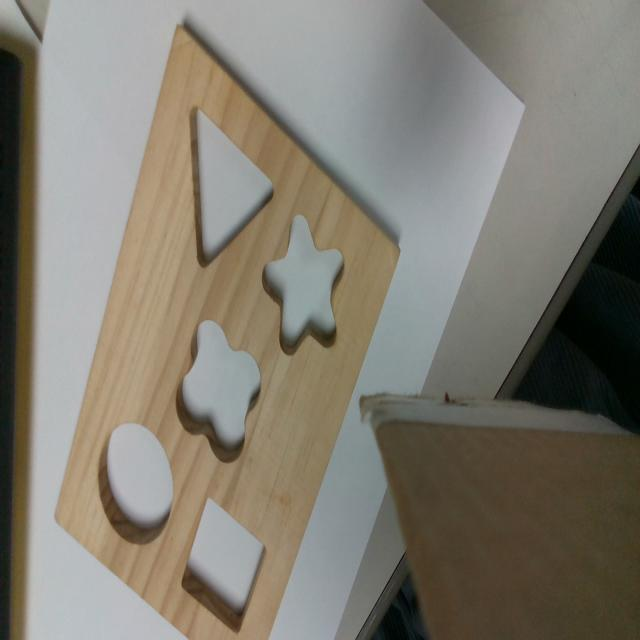circle: (100, 423, 174, 543)
flower: (176, 322, 262, 465)
square: (181, 492, 268, 636)
star: (262, 216, 342, 353)
triangle: (191, 107, 275, 273)
